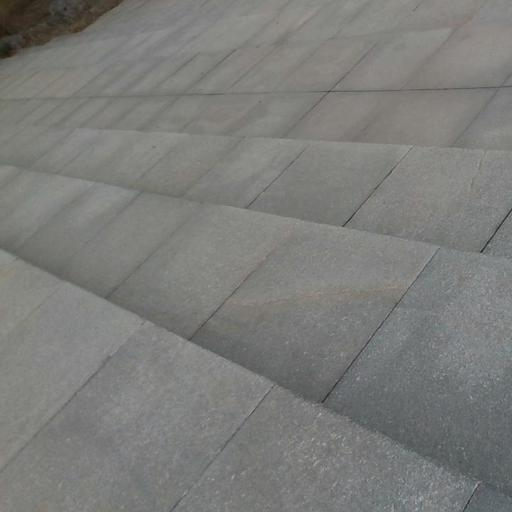stairs: (0, 0, 511, 511), (0, 252, 476, 511)
